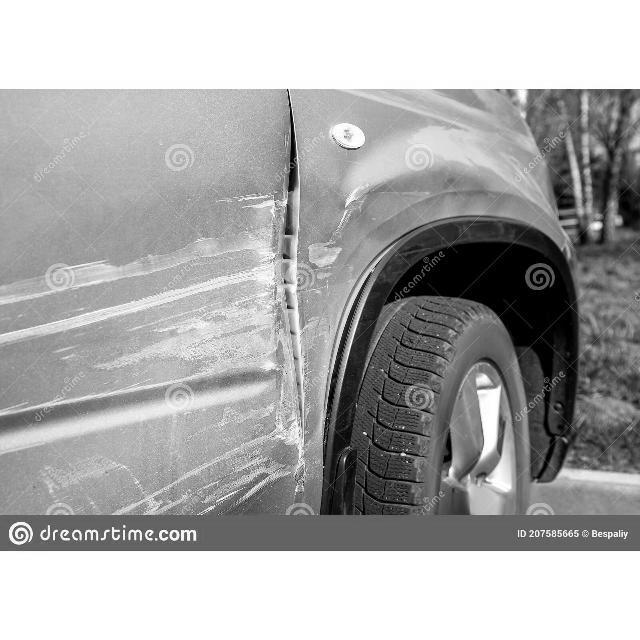doorouter-dent: (1, 90, 298, 514)
fender-dent: (280, 89, 589, 433)
